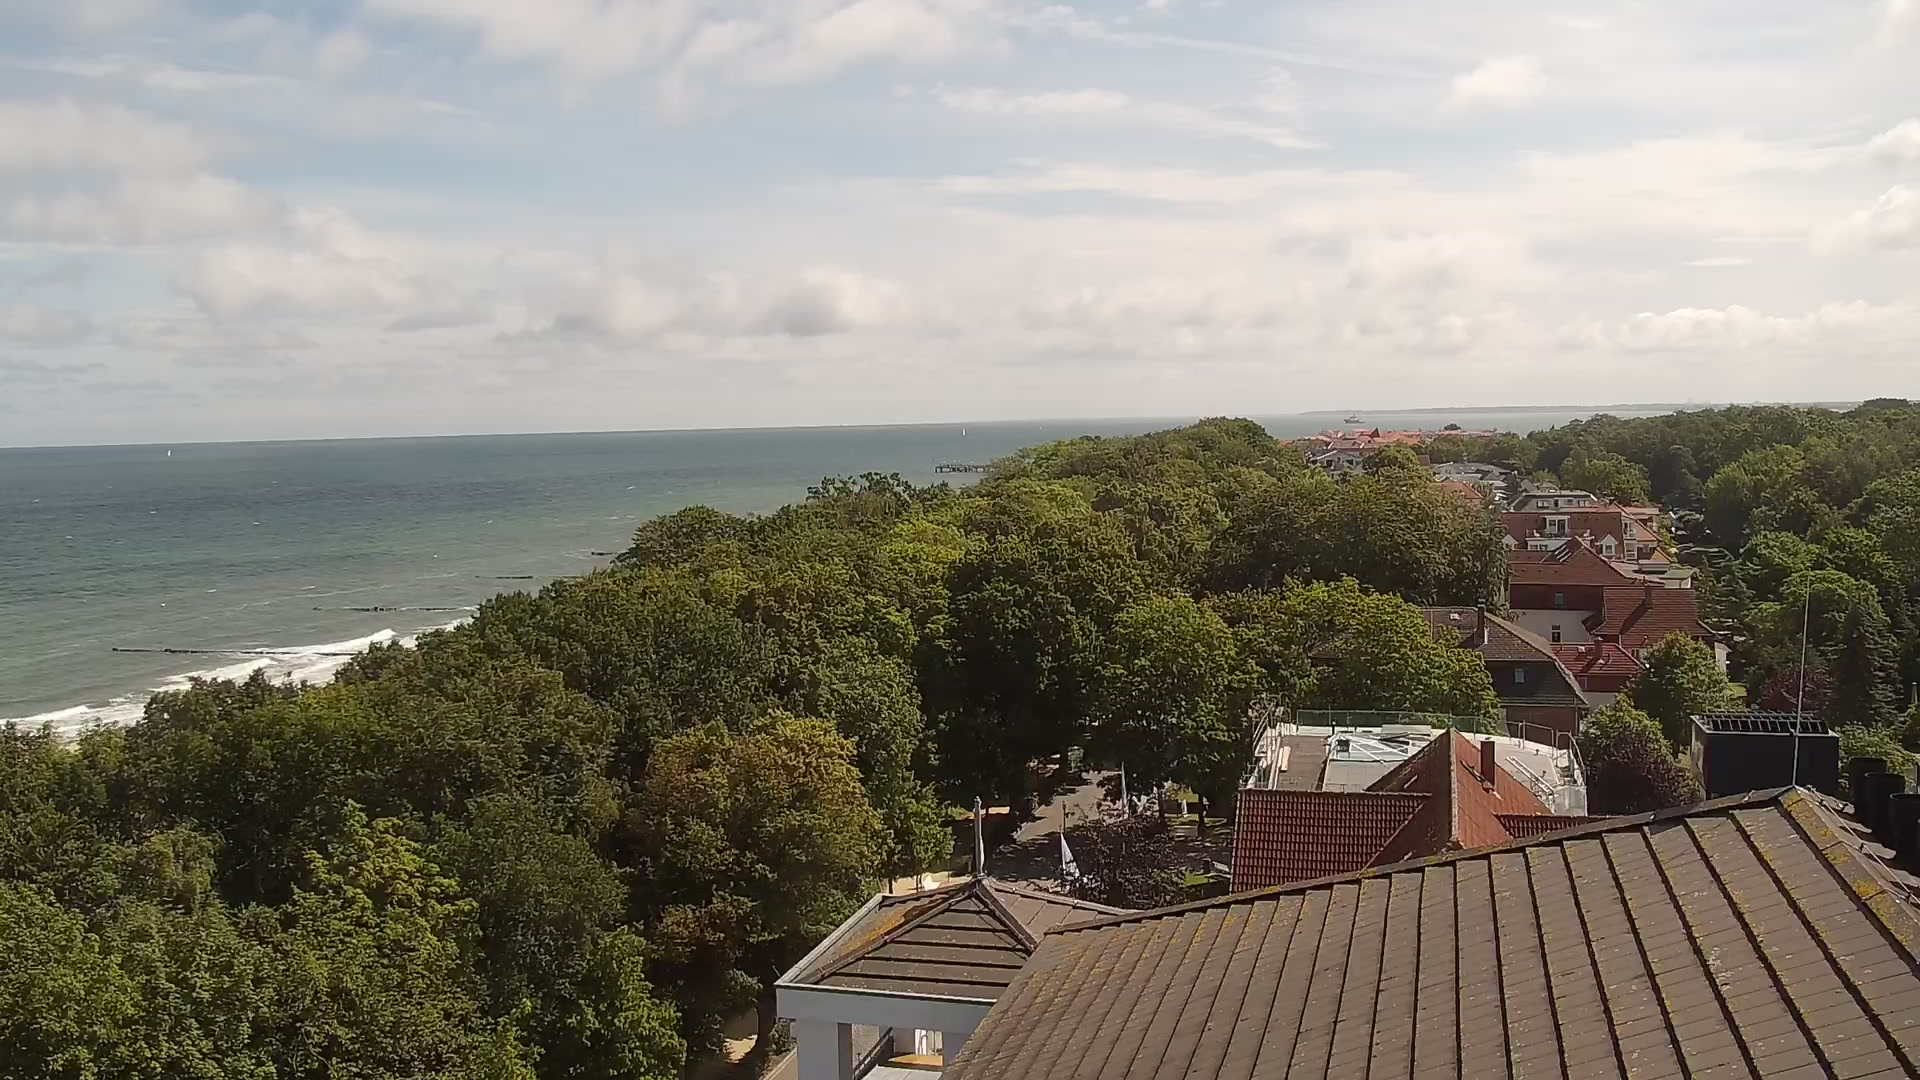sea: (1342, 413, 1365, 423), (961, 426, 967, 436), (167, 448, 173, 458)
